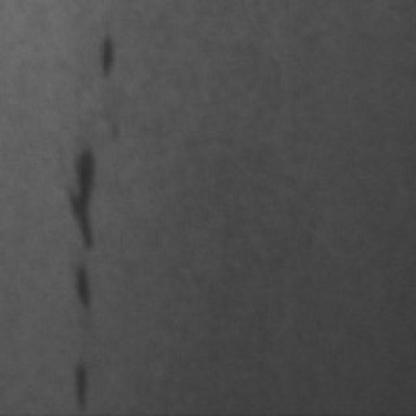inclusion: (58, 141, 102, 250), (62, 256, 96, 312), (85, 29, 121, 79), (69, 353, 92, 410)
